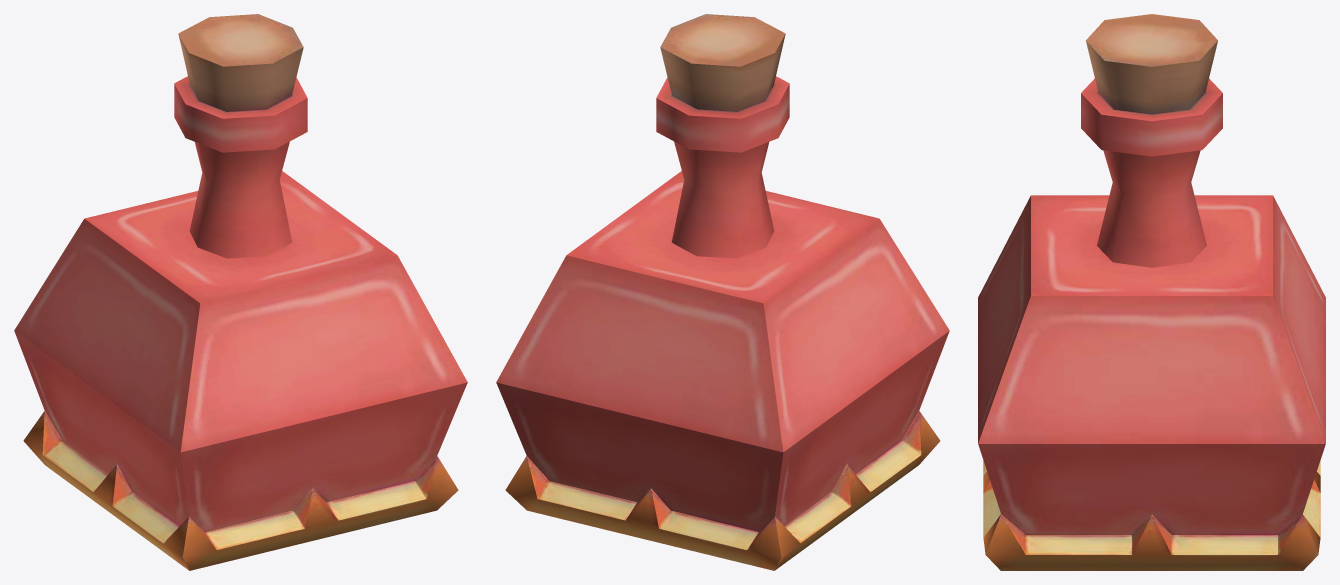
The model's file is potion.obj.
3 views of the same model, side by side, from view 1: azimuth 30°, elevation 25°; view 2: azimuth 150°, elevation 25°; view 3: azimuth 270°, elevation 25° (orthographic). The views are drawn at different scales.
Bounding box in the file's own units: 0.7711 × 1.15 × 0.7742.
